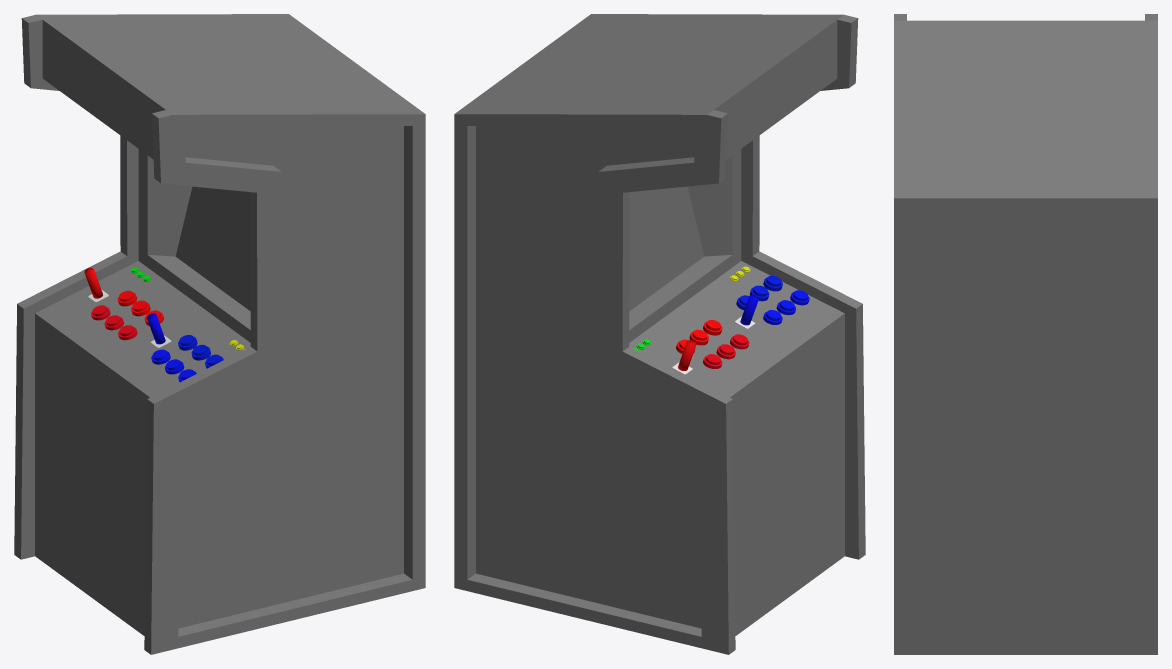
The model's file is retro machine grey.fbx.
The picture shows the model from 3 angles, left to right: view 1: azimuth 30°, elevation 25°; view 2: azimuth 150°, elevation 25°; view 3: azimuth 270°, elevation 25°; orthographic projection. The views are drawn at different scales.
Parts seen in each view (by area): view 1: Plane.001; view 2: Plane.001; view 3: Plane.001.
Boxes of the visible parts, x1,y1,x2,y2 form: Plane.001: [14, 14, 425, 654]; Plane.001: [454, 14, 865, 654]; Plane.001: [894, 14, 1157, 654].
Size of the model in its own units: 106 by 197 by 91.31.
